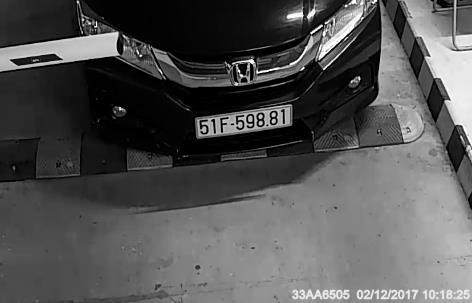License-plate: (192, 106, 304, 141)
